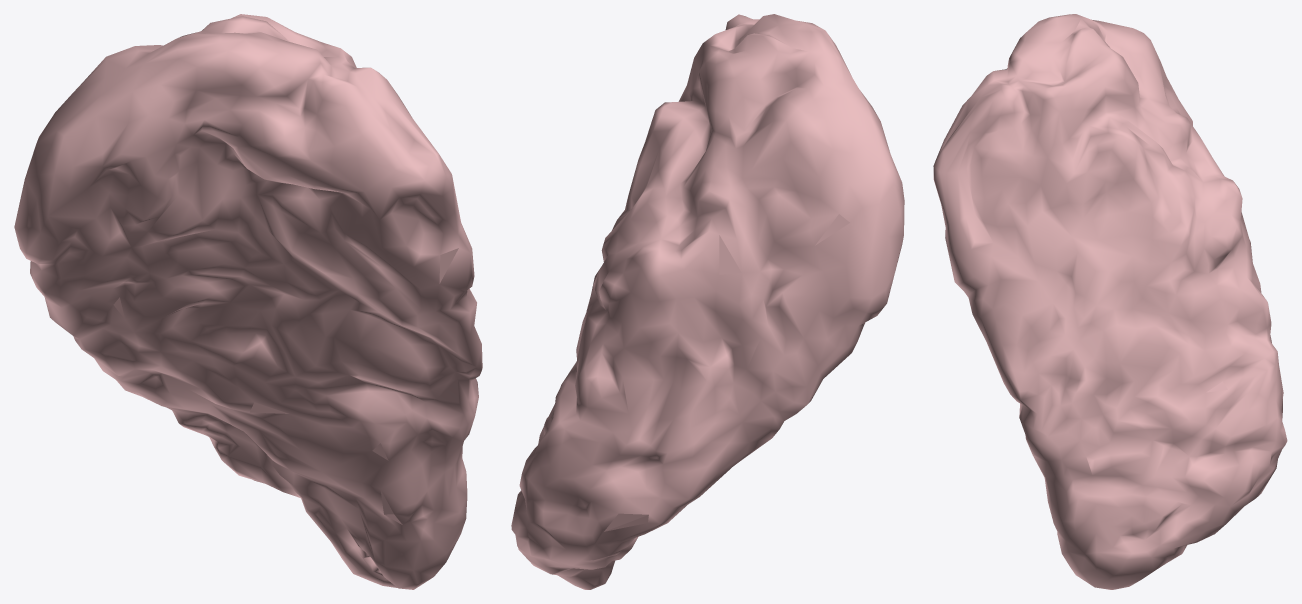
The model's file is 3d-vh-f-palatine-tonsil-l_lod_20.glb.
The picture shows the model from 3 angles, left to right: view 1: azimuth 30°, elevation 25°; view 2: azimuth 150°, elevation 25°; view 3: azimuth 270°, elevation 25°; orthographic projection. The views are drawn at different scales.
Parts seen in each view (by area): view 1: VH_F_palatine_tonsil_L; view 2: VH_F_palatine_tonsil_L; view 3: VH_F_palatine_tonsil_L.
Boxes of the visible parts, x1=… form: VH_F_palatine_tonsil_L: x1=14, y1=14, x2=482, y2=589; VH_F_palatine_tonsil_L: x1=511, y1=14, x2=904, y2=589; VH_F_palatine_tonsil_L: x1=933, y1=14, x2=1287, y2=589.
Bounding box in the file's own units: 0.0164 × 0.0243 × 0.0159.
